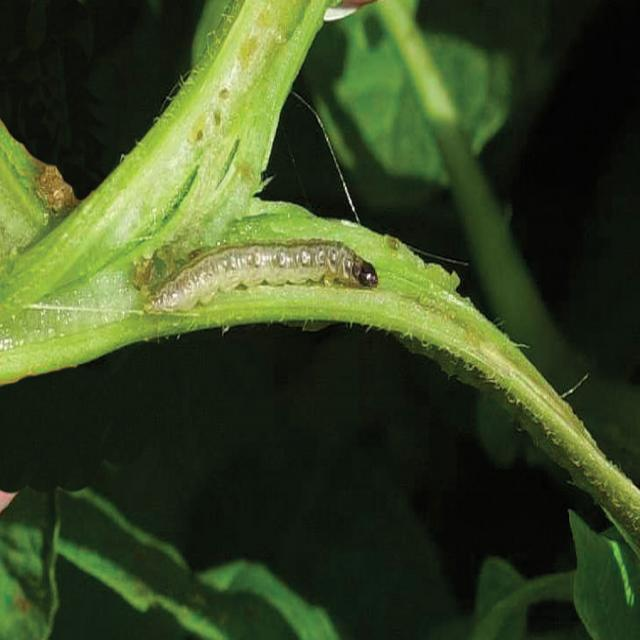cornborer-Larva-: (138, 234, 382, 319)
